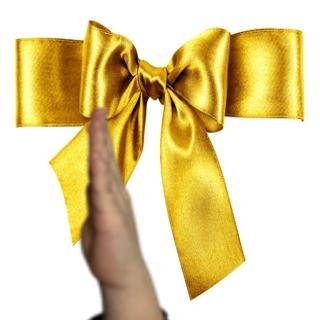RIGHT: (75, 105, 148, 291)
